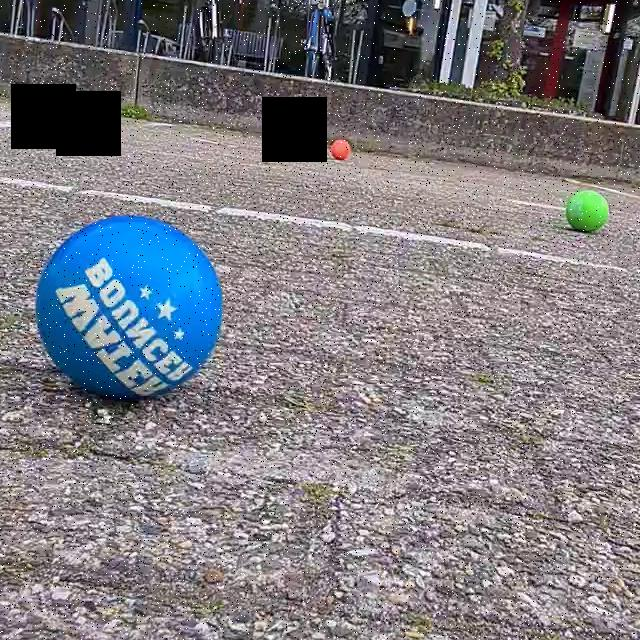ball: (565, 188, 612, 238), (328, 137, 352, 163)
